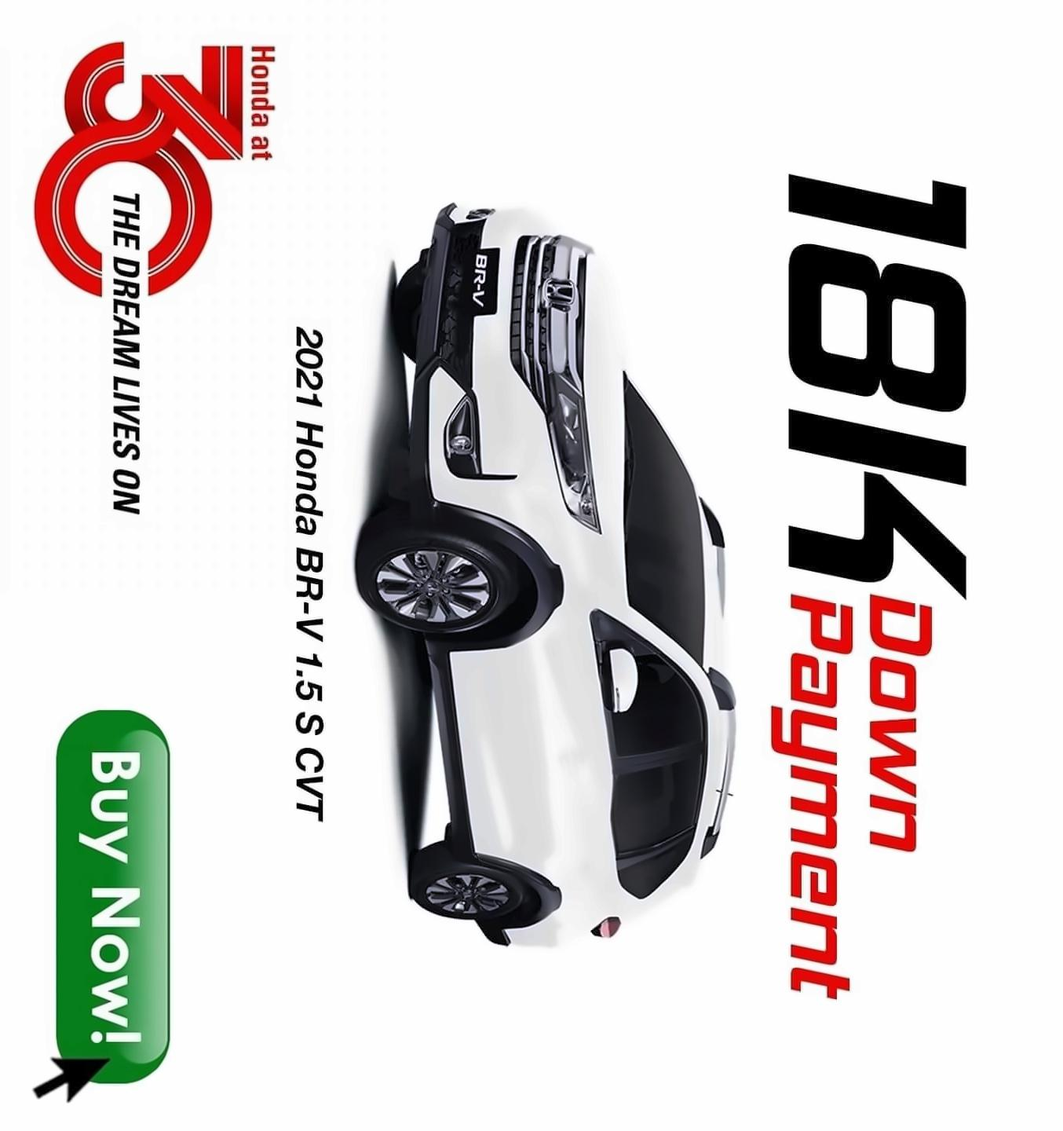Car hood: (579, 246, 629, 621)
Fender - -R-L-: (448, 857, 670, 944)
Front bumper: (406, 199, 549, 544)
Headlight - -L-: (540, 375, 603, 535)
Passenger-s door - -F-L-: (428, 609, 769, 781)
Passenger-s door - -R-L-: (412, 729, 769, 876)
Side bumper - -L-: (411, 501, 622, 656), (405, 640, 497, 869)
Side mirror - -L-: (596, 632, 642, 722)
